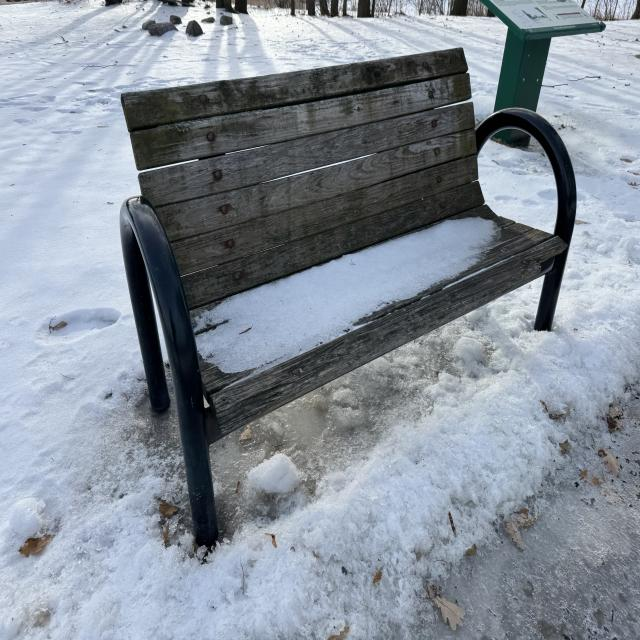Bench: (120, 74, 576, 534)
